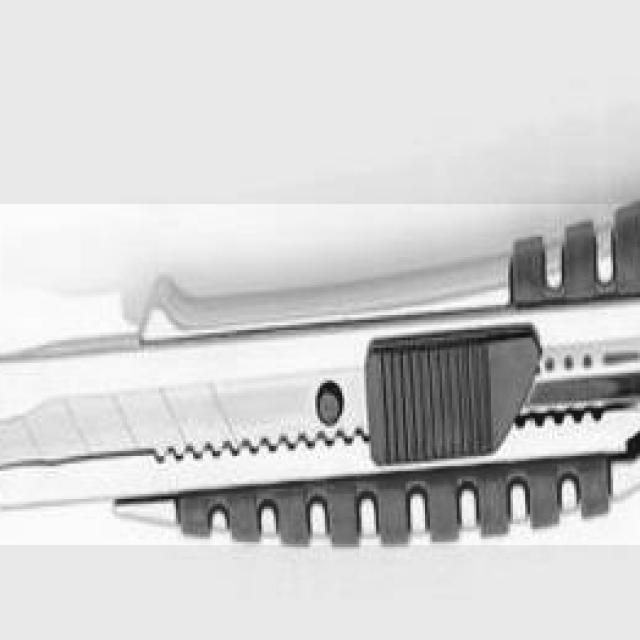estilete: (0, 204, 640, 545)
